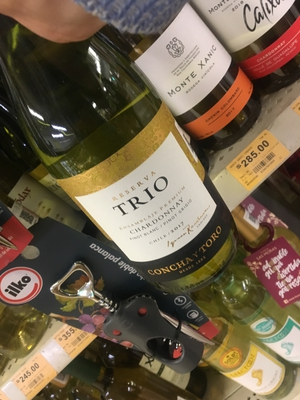trio chardonnay: (74, 33, 210, 373)
